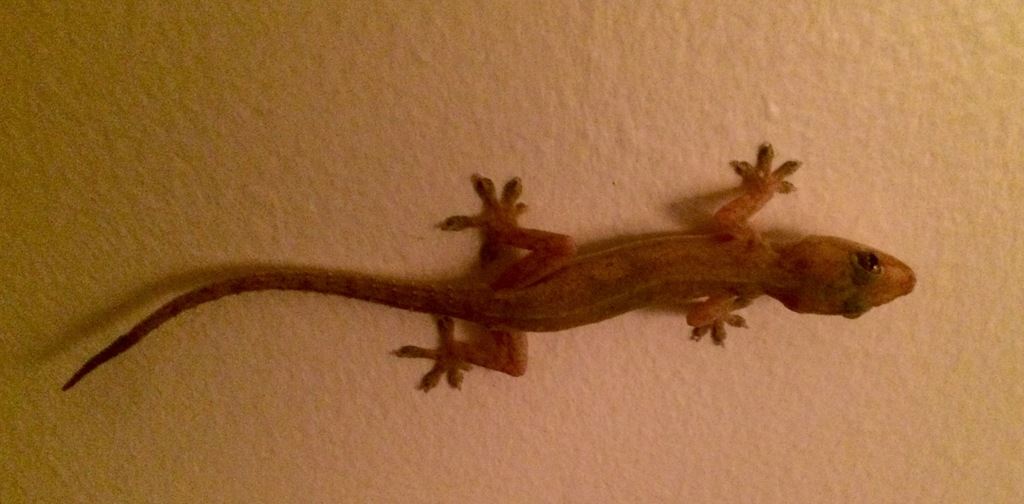person: (431, 171, 579, 295)
